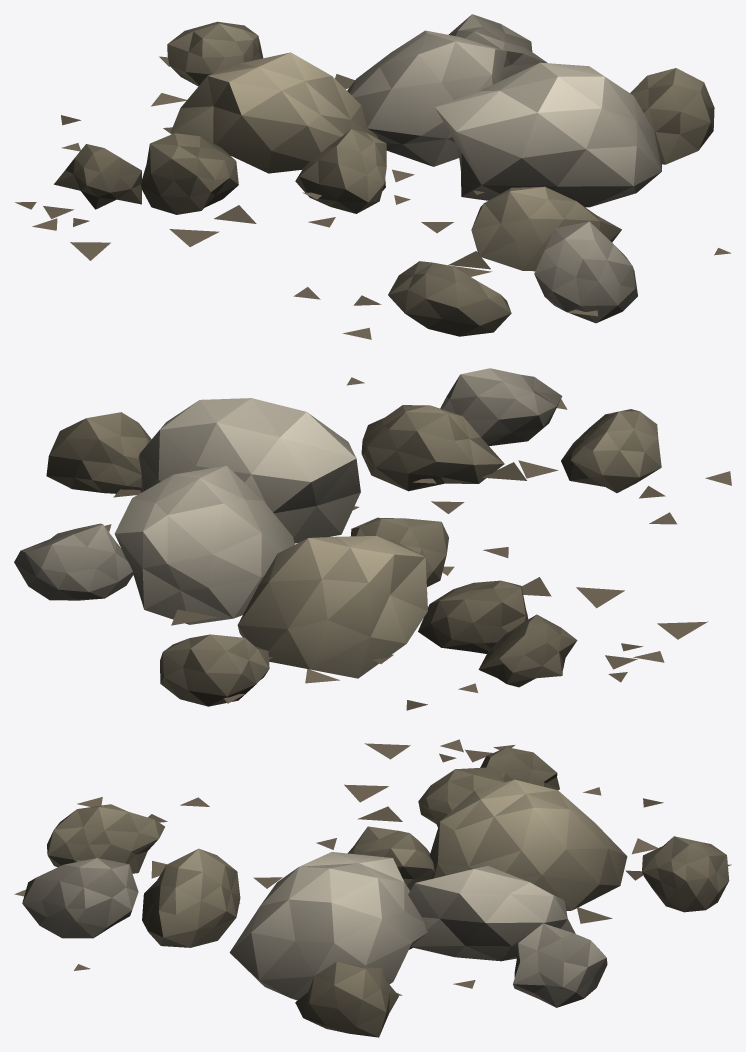
The model's file is calcite.glb.
The picture shows the model from 3 angles, top to bottom: view 1: azimuth 30°, elevation 25°; view 2: azimuth 150°, elevation 25°; view 3: azimuth 270°, elevation 25°; orthographic projection. The views are drawn at different scales.
Parts seen in each view (by area): view 1: calcite; view 2: calcite; view 3: calcite.
Part boxes in pixels (box(x1,y1,x2,y2)): calcite: box(15, 14, 730, 339); calcite: box(14, 368, 731, 710); calcite: box(14, 739, 731, 1037).
Size of the model in its own units: 1.65 by 0.2578 by 1.71.
